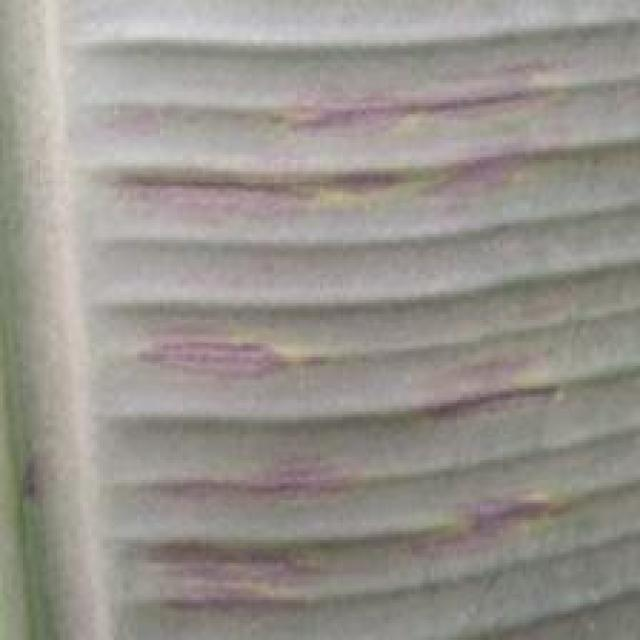Early_leaf_spot: (113, 142, 385, 248), (117, 514, 334, 612), (400, 469, 583, 583), (409, 336, 592, 448), (278, 80, 550, 146), (406, 140, 553, 228), (112, 448, 374, 497), (131, 324, 329, 388)
